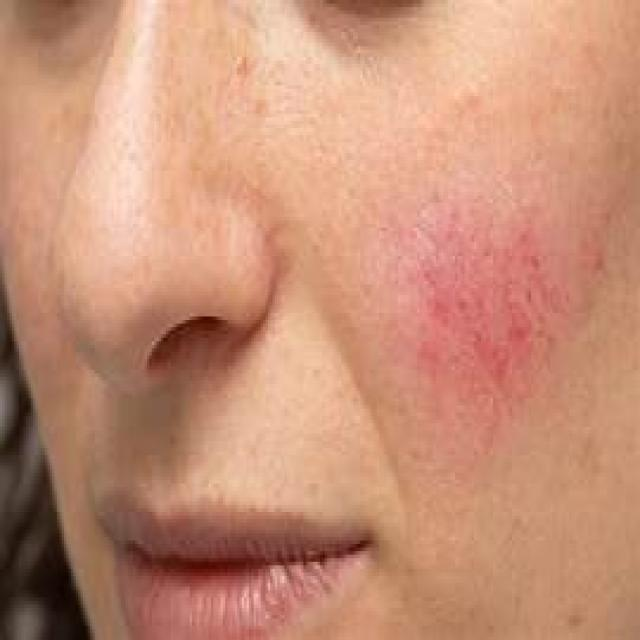Rosacea: (392, 204, 562, 399)
